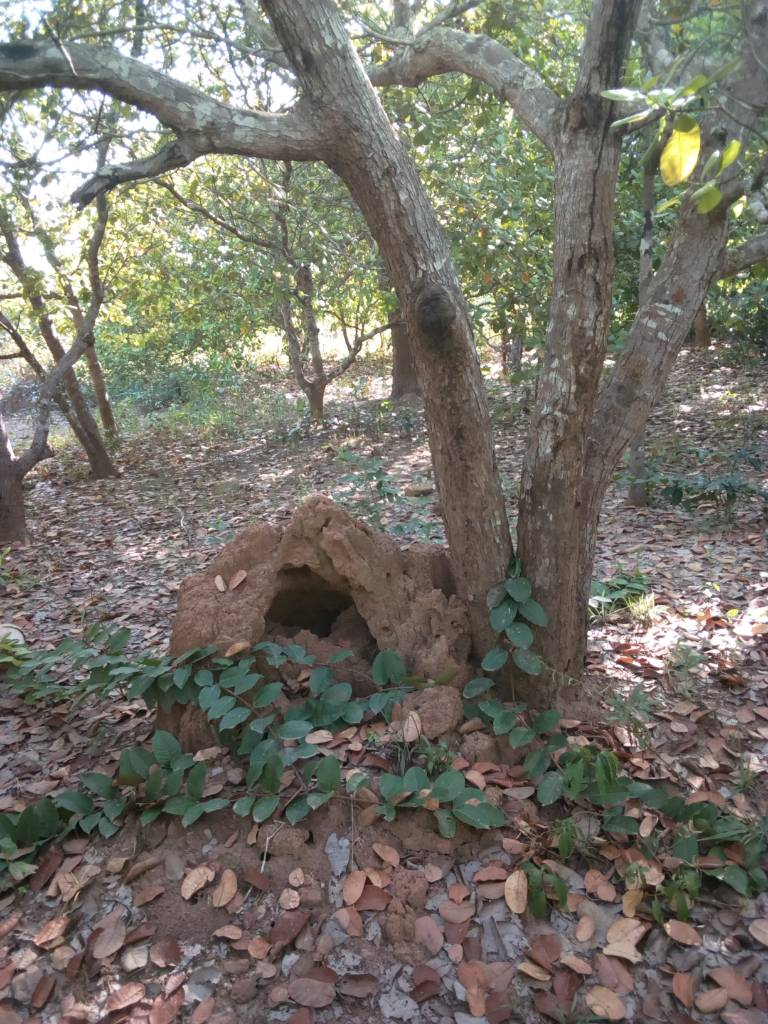Termites: (188, 499, 452, 688), (547, 316, 585, 678)
